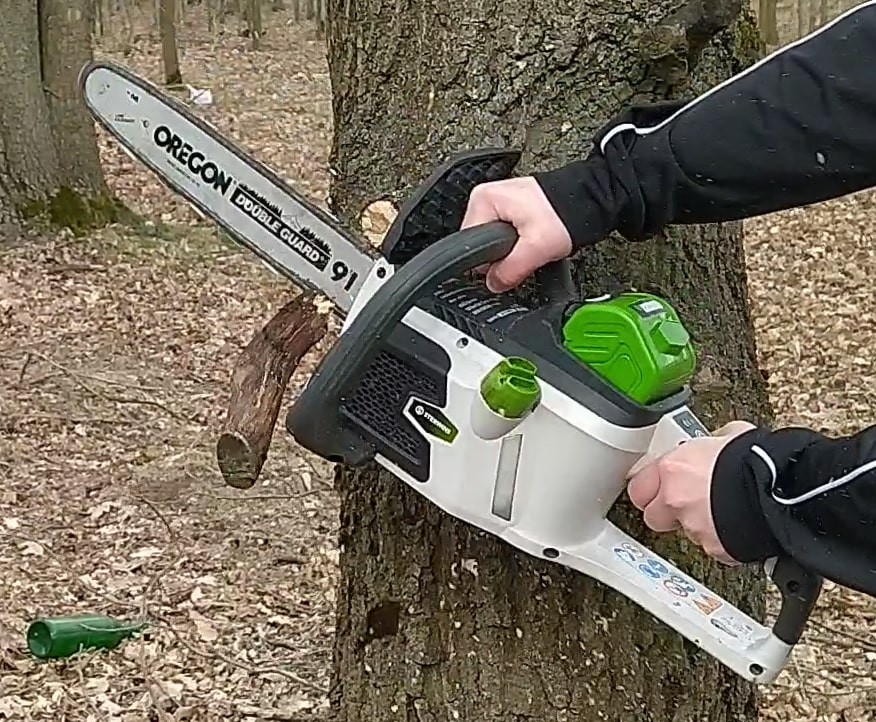chainsaw: (66, 58, 836, 713)
